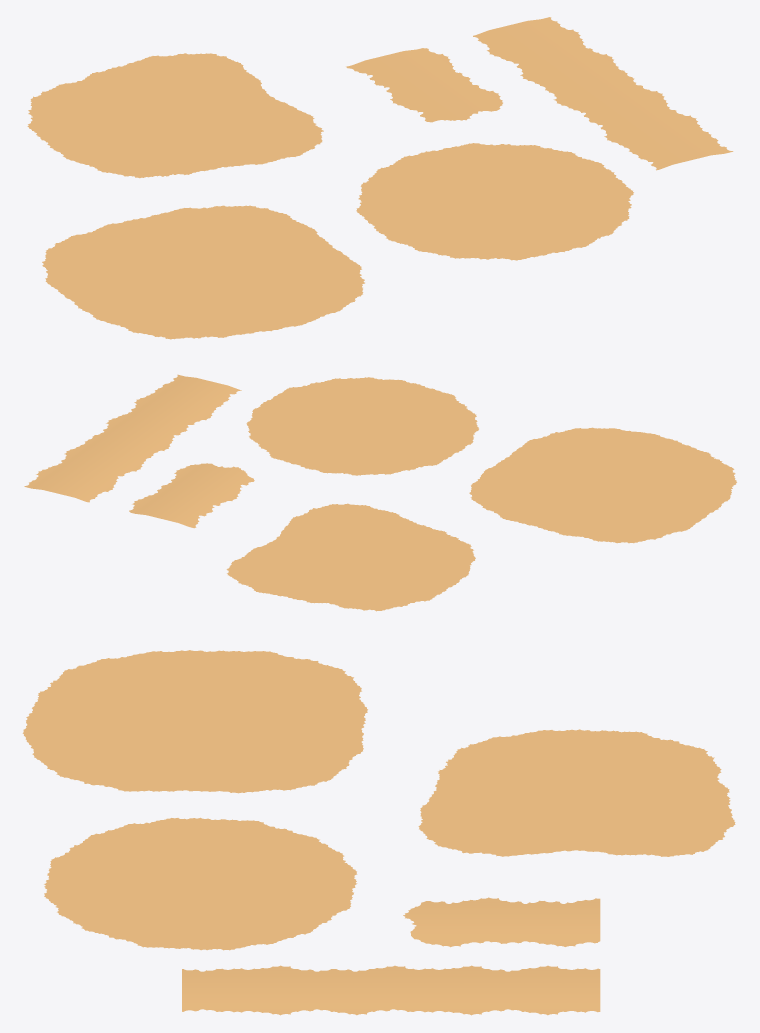
File: RoadModule.fbx
3 views of the same model, one above another, from view 1: azimuth 30°, elevation 25°; view 2: azimuth 150°, elevation 25°; view 3: azimuth 270°, elevation 25° (orthographic). The views are drawn at different scales.
Parts seen in each view (by area): view 1: pCylinder2, pCylinder3, pCylinder1, pPlane1, pPlane2; view 2: pCylinder2, pCylinder3, pCylinder1, pPlane1, pPlane2; view 3: pCylinder2, pCylinder3, pCylinder1, pPlane1, pPlane2.
Part boxes in pixels (<box>): pCylinder2: <box>42,205,364,339</box>; pCylinder3: <box>27,53,323,178</box>; pCylinder1: <box>356,143,633,260</box>; pPlane1: <box>473,17,733,170</box>; pPlane2: <box>346,48,502,122</box>; pCylinder2: <box>469,427,736,543</box>; pCylinder3: <box>226,503,475,611</box>; pCylinder1: <box>246,377,478,475</box>; pPlane1: <box>24,374,241,502</box>; pPlane2: <box>129,463,254,528</box>; pCylinder2: <box>22,650,367,793</box>; pCylinder3: <box>418,729,735,856</box>; pCylinder1: <box>44,817,357,950</box>; pPlane1: <box>182,965,600,1015</box>; pPlane2: <box>403,897,600,947</box>.
Bounding box in the file's own units: 4074 × 9.56 × 3366.
